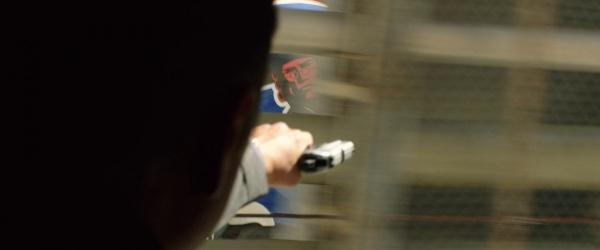Gun: (296, 138, 356, 174)
